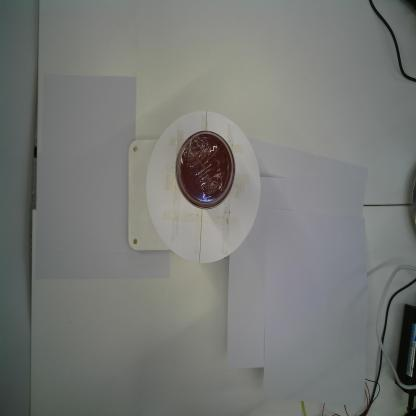Instant Drink: (174, 129, 236, 212)
